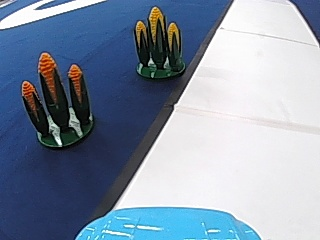corn: (24, 51, 98, 148), (131, 3, 186, 79)
